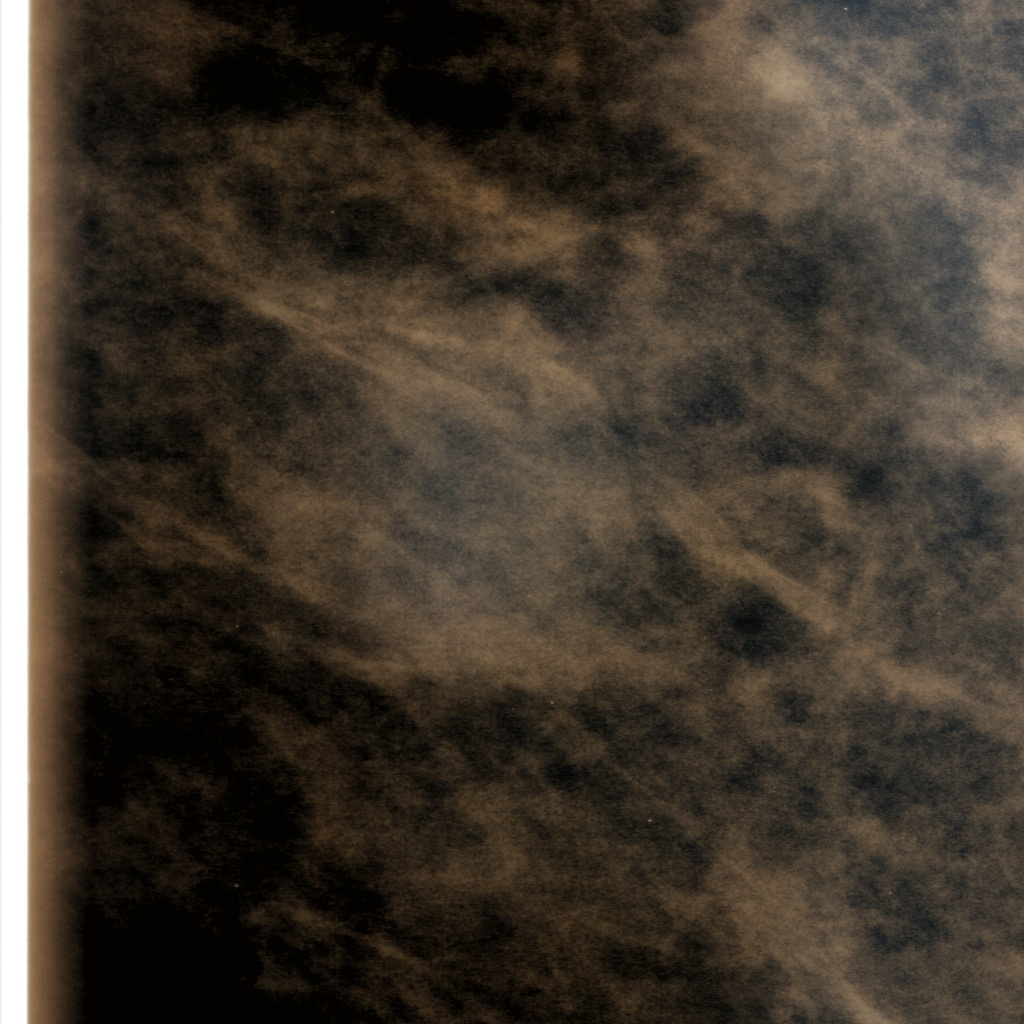tumor: (281, 336, 637, 688)
